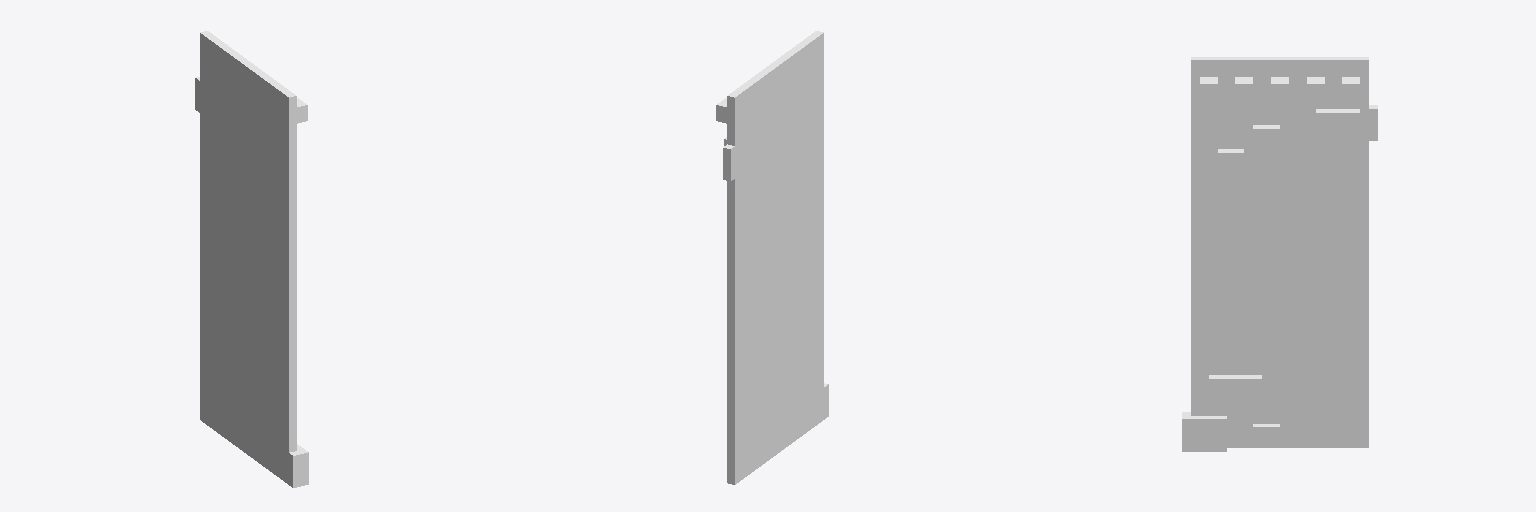
The model's file is TinyBuilding01-1.obj.
3 views of the same model, side by side, from view 1: azimuth 30°, elevation 25°; view 2: azimuth 150°, elevation 25°; view 3: azimuth 270°, elevation 25° (orthographic).
Visible parts, largest first — view 1: object 1; view 2: object 1; view 3: object 1.
Part boxes in pixels (x1,y1,x2,y2): object 1: (195,31,308,487); object 1: (716,31,828,484); object 1: (1182,57,1377,451).
Size of the model in its own units: 0.3 by 4.8 by 2.2.